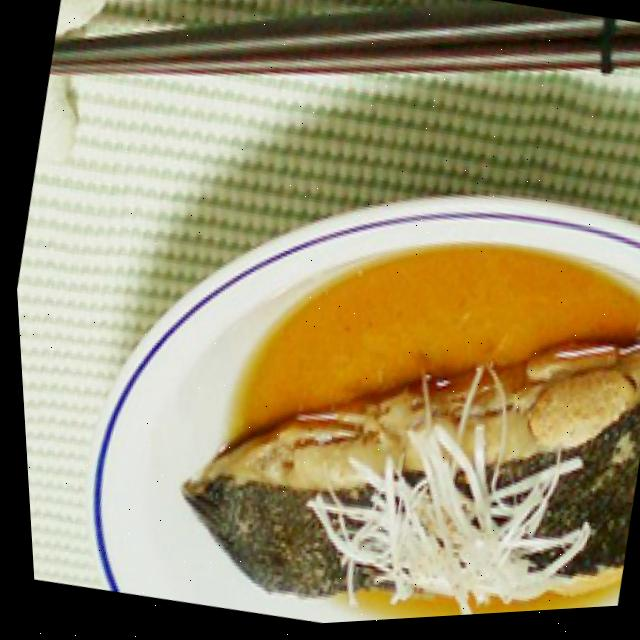熟制海鲜: (134, 215, 640, 634)
